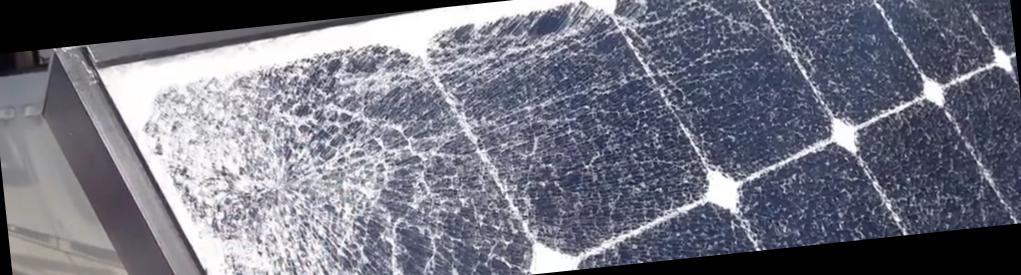Crack: (141, 43, 484, 274)
